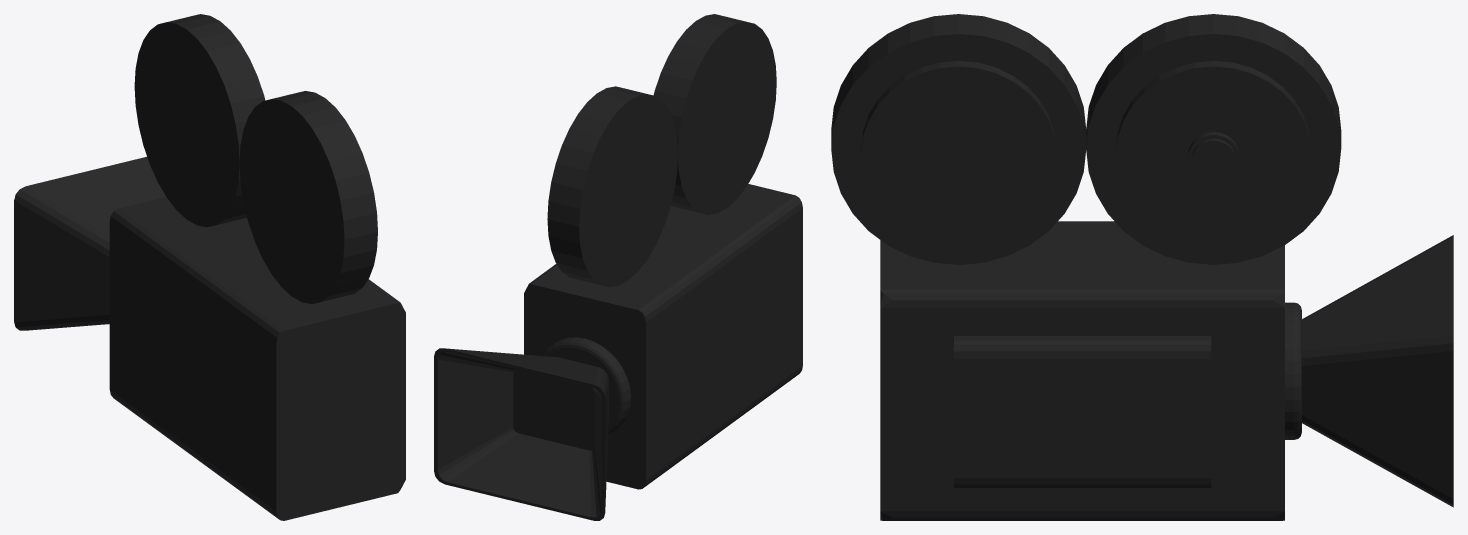
File: block.glb
3 renders of one model, left to right at view 1: azimuth 30°, elevation 25°; view 2: azimuth 150°, elevation 25°; view 3: azimuth 270°, elevation 25°, orthographic. The views are drawn at different scales.
Visible parts, largest first — view 1: Camera; view 2: Camera; view 3: Camera.
Boxes of the visible parts, x1,y1,x2,y2 form: Camera: (14,14,405,520); Camera: (434,14,802,520); Camera: (831,14,1453,520).
Bounding box in the file's own units: 0.2407 × 0.482 × 0.5876.
1 material, 1 textured.
